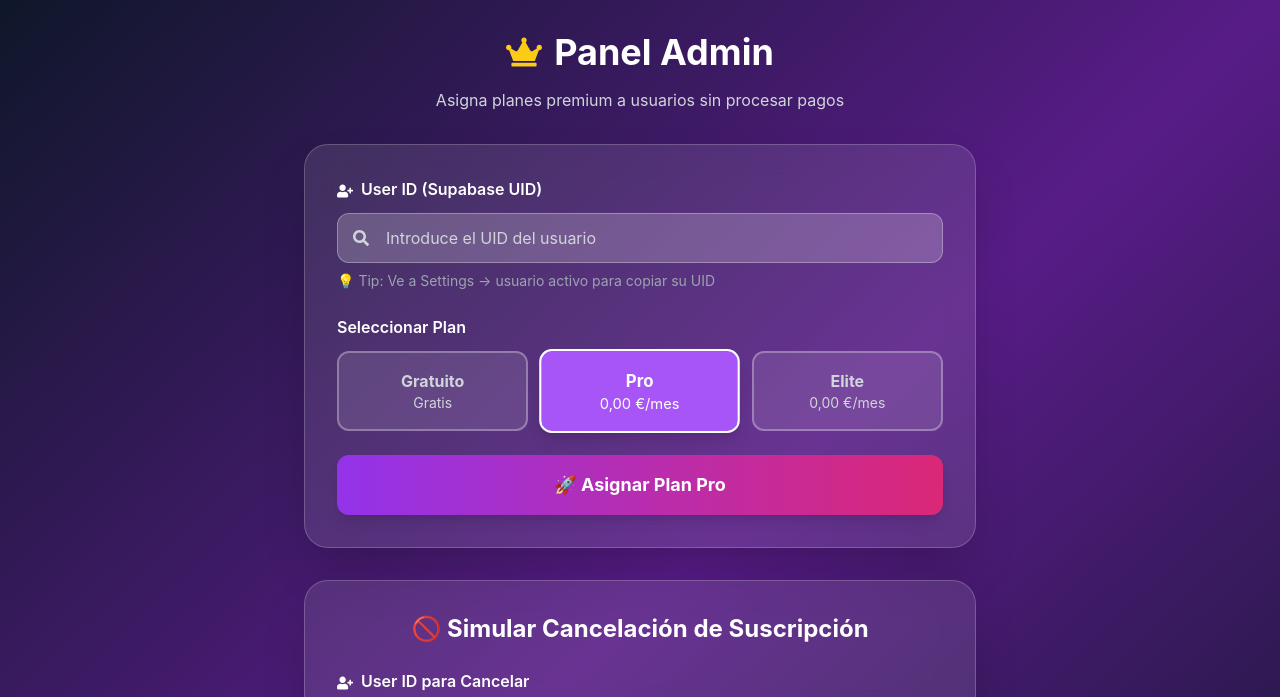
Test case: server rejection does not appear as a plan assignment success
Step 1. Type "other" into the field with placeholder "Introduce el UID del usuario" → (640, 238), box [337,213,943,263]
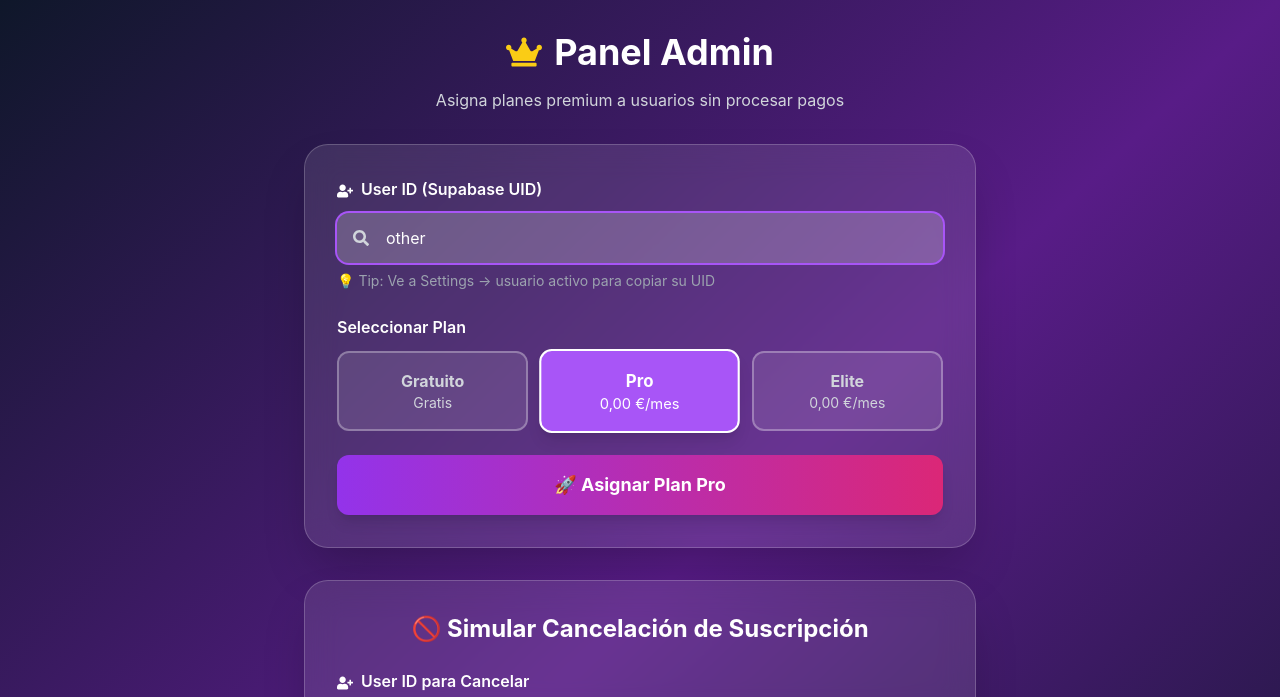
Step 2. Click the button "🚀 Asignar Plan Pro" → (640, 485), box [337,455,943,515]
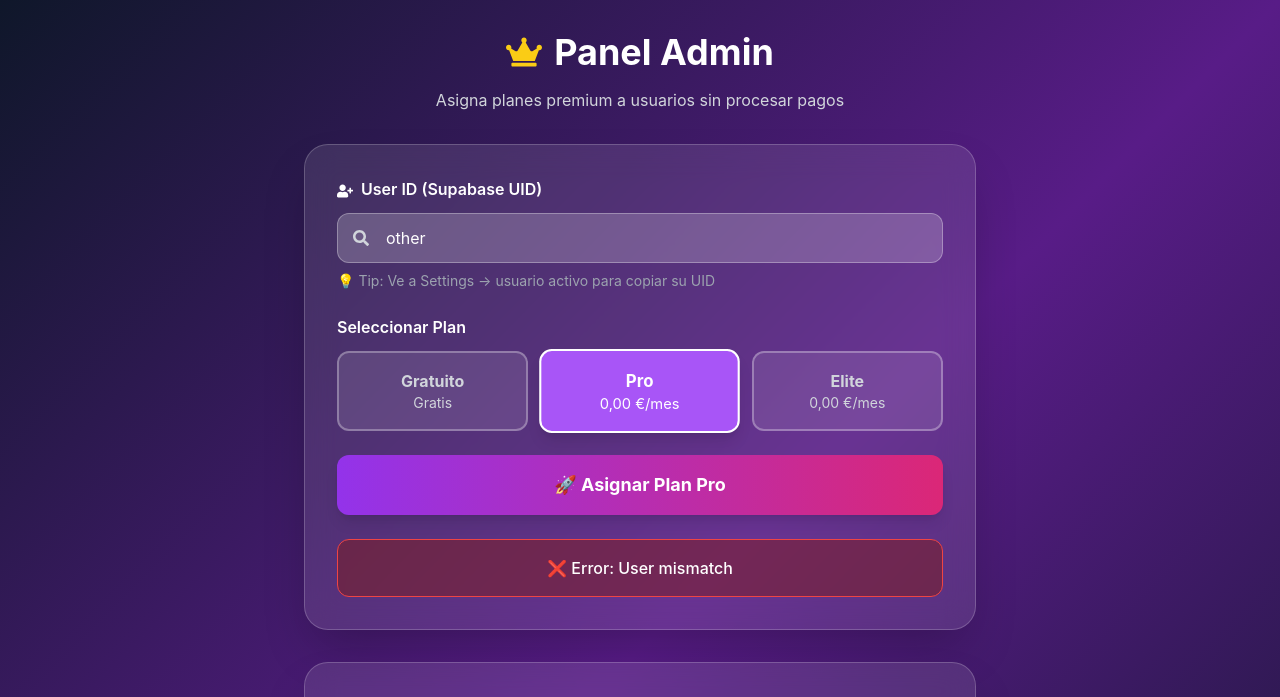
Expected: the text "❌ Error: User mismatch" is shown, [547,558,733,578]
